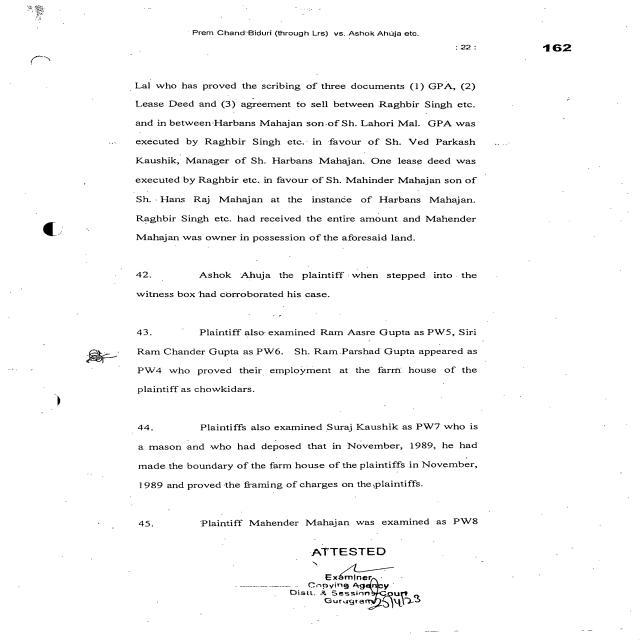page-number: (480, 0, 638, 55)
